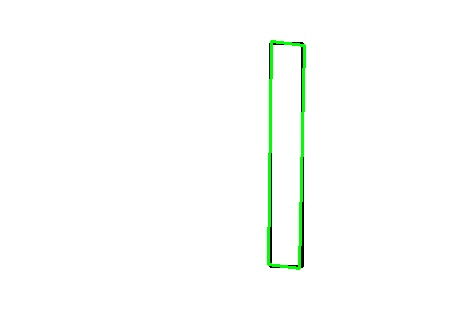line_segment: (268, 41, 305, 269)
